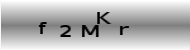2: (57, 23, 72, 38)
K: (95, 10, 111, 24)
M: (81, 24, 98, 38)
f: (38, 21, 47, 35)
r: (118, 24, 131, 36)
